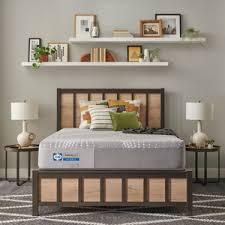bed-matress: (36, 124, 185, 170)
